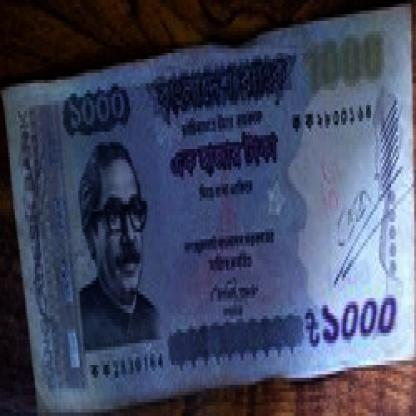One Thousand taka: (303, 298, 399, 343), (65, 90, 128, 135)
